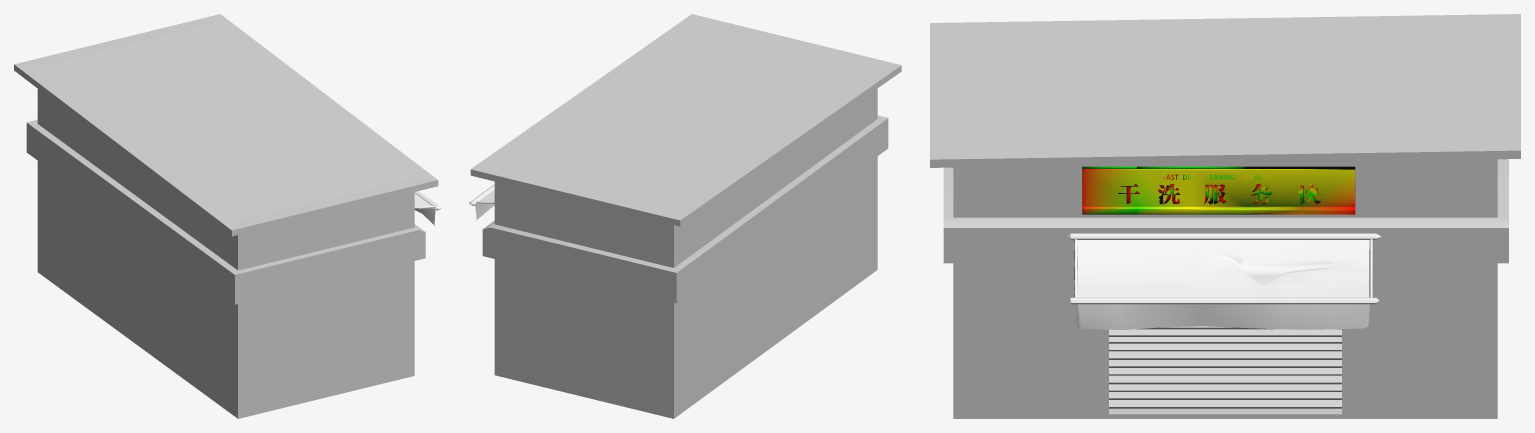
The model's file is Building_5.FBX.
3 views of the same model, side by side, from view 1: azimuth 30°, elevation 25°; view 2: azimuth 150°, elevation 25°; view 3: azimuth 270°, elevation 25° (orthographic). The views are drawn at different scales.
Parts seen in each view (by area): view 1: Box016, Box015; view 2: Box016, Box015; view 3: Box016, P02_Storefront_Awning_002, Box017, Box015, Object036, Object037, Object035.
Boxes of the visible parts, left/top/right/bottom form: Box016: left=14, top=14, right=438, bottom=418; Box015: left=26, top=119, right=425, bottom=304; Box016: left=470, top=14, right=901, bottom=418; Box015: left=482, top=115, right=888, bottom=303; Box016: left=930, top=14, right=1520, bottom=418; P02_Storefront_Awning_002: left=1074, top=239, right=1373, bottom=330; Box017: left=1109, top=326, right=1341, bottom=408; Box015: left=943, top=159, right=1508, bottom=263; Object036: left=1082, top=166, right=1355, bottom=214; Object037: left=1067, top=233, right=1381, bottom=304; Object035: left=1118, top=174, right=1320, bottom=204.
Size of the model in its own units: 546 by 410 by 789.
